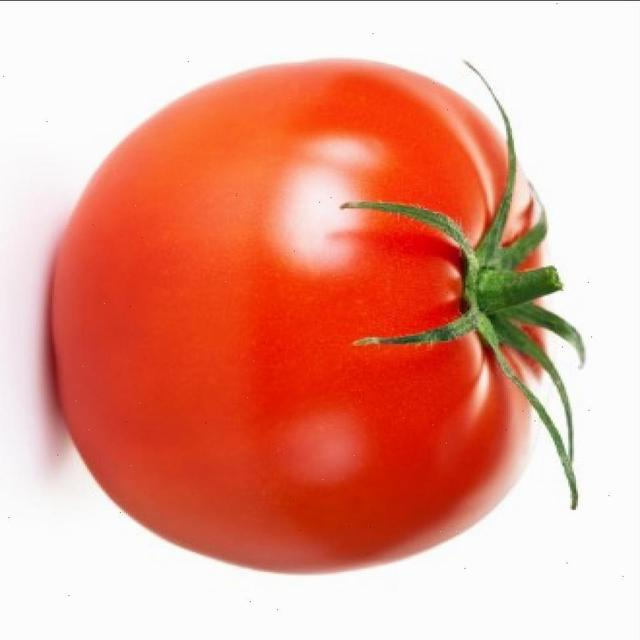Healthy Fruit: (32, 39, 379, 392)
